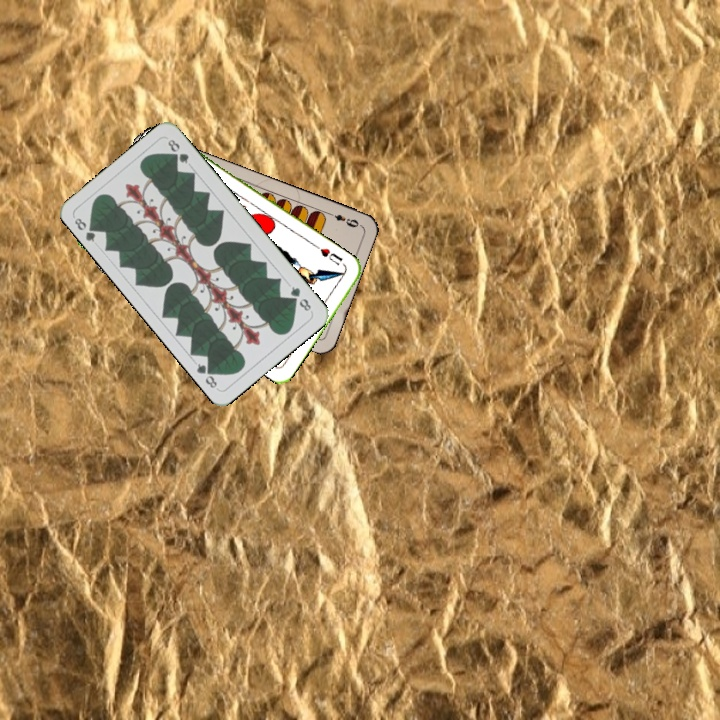E9: (324, 208, 363, 230)
G8: (70, 214, 101, 245), (286, 282, 314, 314)
HU: (316, 244, 345, 268)
